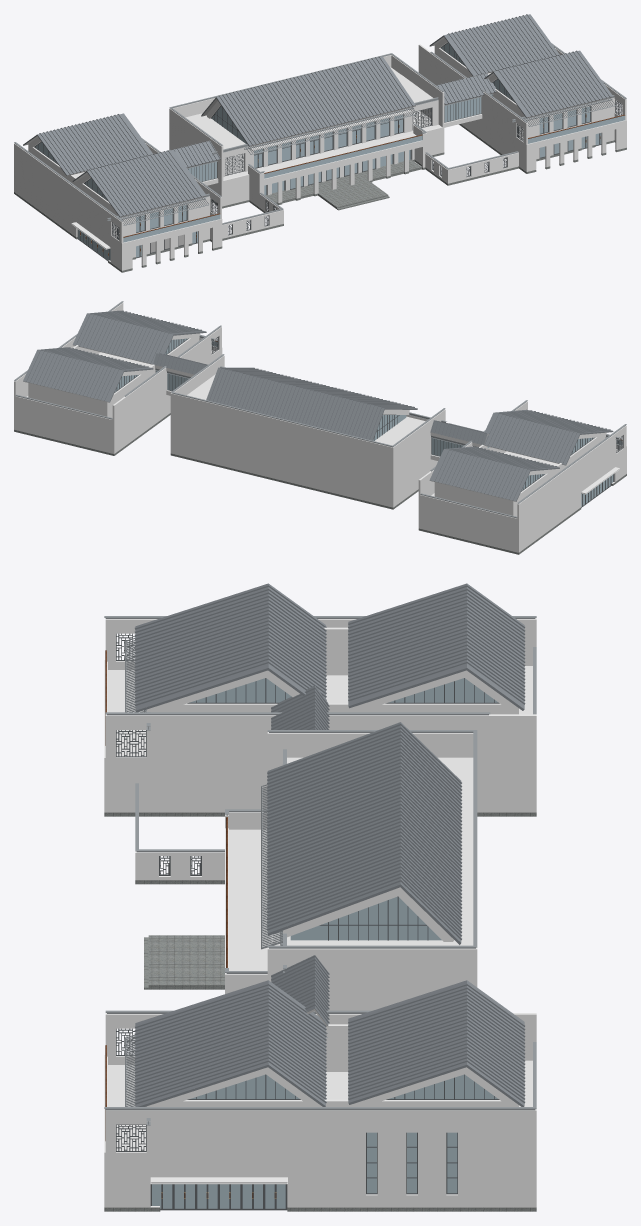
3 renders of one model, top to bottom at view 1: azimuth 30°, elevation 25°; view 2: azimuth 150°, elevation 25°; view 3: azimuth 270°, elevation 25°, orthographic. The views are drawn at different scales.
Parts seen in each view (by area): view 1: Obj3d66-577711-259-537, Obj3d66-577711-456-825, Obj3d66-577711-784-689, Obj3d66-577711-748-629, Obj3d66-577711-420-182, Obj3d66-577711-952-27, Obj3d66-577711-343-988, Obj3d66-577711-1-101, Obj3d66-577711-26-478, Obj3d66-577711-707-206, Obj3d66-577711-379-376, Obj3d66-577711-28-734 (+33 smaller); view 2: Obj3d66-577711-205-277, Obj3d66-577711-259-537, Obj3d66-577711-952-27, Obj3d66-577711-303-716, Obj3d66-577711-645-145, Obj3d66-577711-456-825, Obj3d66-577711-748-629, Obj3d66-577711-784-689, Obj3d66-577711-420-182, Obj3d66-577711-343-988, Obj3d66-577711-195-329, Obj3d66-577711-295-4 (+18 smaller); view 3: Obj3d66-577711-621-680, Obj3d66-577711-980-511, Obj3d66-577711-259-537, Obj3d66-577711-784-689, Obj3d66-577711-456-825, Obj3d66-577711-637-877, Obj3d66-577711-420-182, Obj3d66-577711-748-629, Obj3d66-577711-199-314, Obj3d66-577711-27-907, Obj3d66-577711-228-892, Obj3d66-577711-262-954 (+45 smaller).
Boxes of the visible parts, left/top/right/bottom form: Obj3d66-577711-259-537: left=205, top=56, right=415, bottom=145; Obj3d66-577711-456-825: left=87, top=149, right=206, bottom=216; Obj3d66-577711-784-689: left=494, top=50, right=612, bottom=117; Obj3d66-577711-748-629: left=444, top=14, right=559, bottom=75; Obj3d66-577711-420-182: left=37, top=113, right=152, bottom=175; Obj3d66-577711-952-27: left=418, top=44, right=527, bottom=171; Obj3d66-577711-343-988: left=14, top=143, right=77, bottom=236; Obj3d66-577711-1-101: left=260, top=133, right=425, bottom=202; Obj3d66-577711-26-478: left=223, top=100, right=438, bottom=176; Obj3d66-577711-707-206: left=526, top=120, right=626, bottom=171; Obj3d66-577711-379-376: left=121, top=219, right=222, bottom=270; Obj3d66-577711-28-734: left=223, top=127, right=442, bottom=206; Obj3d66-577711-205-277: left=170, top=393, right=393, bottom=507; Obj3d66-577711-259-537: left=206, top=367, right=417, bottom=440; Obj3d66-577711-952-27: left=112, top=326, right=221, bottom=453; Obj3d66-577711-303-716: left=420, top=495, right=519, bottom=552; Obj3d66-577711-645-145: left=15, top=396, right=112, bottom=453; Obj3d66-577711-456-825: left=484, top=409, right=612, bottom=464; Obj3d66-577711-748-629: left=23, top=347, right=152, bottom=402; Obj3d66-577711-784-689: left=72, top=310, right=205, bottom=364; Obj3d66-577711-420-182: left=430, top=446, right=559, bottom=501; Obj3d66-577711-343-988: left=517, top=458, right=581, bottom=552; Obj3d66-577711-195-329: left=393, top=409, right=445, bottom=506; Obj3d66-577711-295-4: left=581, top=434, right=615, bottom=491; Obj3d66-577711-621-680: left=105, top=714, right=536, bottom=812; Obj3d66-577711-980-511: left=287, top=1109, right=536, bottom=1207; Obj3d66-577711-259-537: left=267, top=722, right=461, bottom=942; Obj3d66-577711-784-689: left=135, top=980, right=325, bottom=1106; Obj3d66-577711-456-825: left=135, top=583, right=325, bottom=710; Obj3d66-577711-637-877: left=150, top=1110, right=289, bottom=1179; Obj3d66-577711-420-182: left=348, top=583, right=524, bottom=709; Obj3d66-577711-748-629: left=348, top=980, right=524, bottom=1106; Obj3d66-577711-199-314: left=267, top=947, right=477, bottom=1010; Obj3d66-577711-27-907: left=229, top=829, right=271, bottom=970; Obj3d66-577711-228-892: left=148, top=935, right=224, bottom=987; Obj3d66-577711-262-954: left=290, top=896, right=441, bottom=940.
Bounding box in the file's own units: 76.9 × 11.65 × 28.
Materials: 13 (2 with a texture image).
